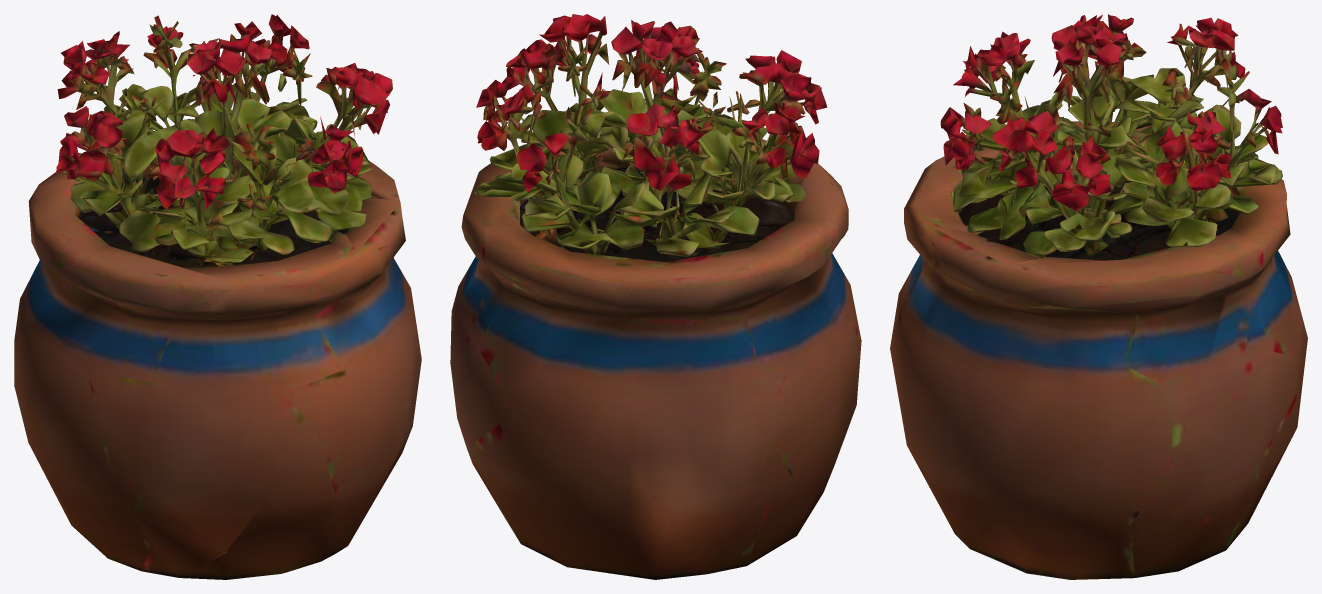
File: decor_pot_t1_medium.glb
The picture shows the model from 3 angles, left to right: view 1: azimuth 30°, elevation 25°; view 2: azimuth 150°, elevation 25°; view 3: azimuth 270°, elevation 25°; orthographic projection.
Visible parts, largest first — view 1: world; view 2: world; view 3: world.
Boxes of the visible parts, x1,y1,x2,y2 form: world: (14, 14, 421, 579); world: (450, 14, 861, 579); world: (890, 14, 1307, 579).
Size of the model in its own units: 0.6187 by 0.7977 by 0.6199.
Materials: 1 (1 with a texture image).
